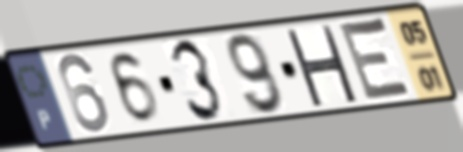3: (167, 37, 228, 124)
6: (58, 51, 112, 136), (106, 49, 162, 126)
9: (221, 32, 288, 116)
E: (335, 15, 418, 105)
H: (281, 24, 361, 107)
